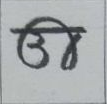i_matra: (47, 15, 76, 70)
